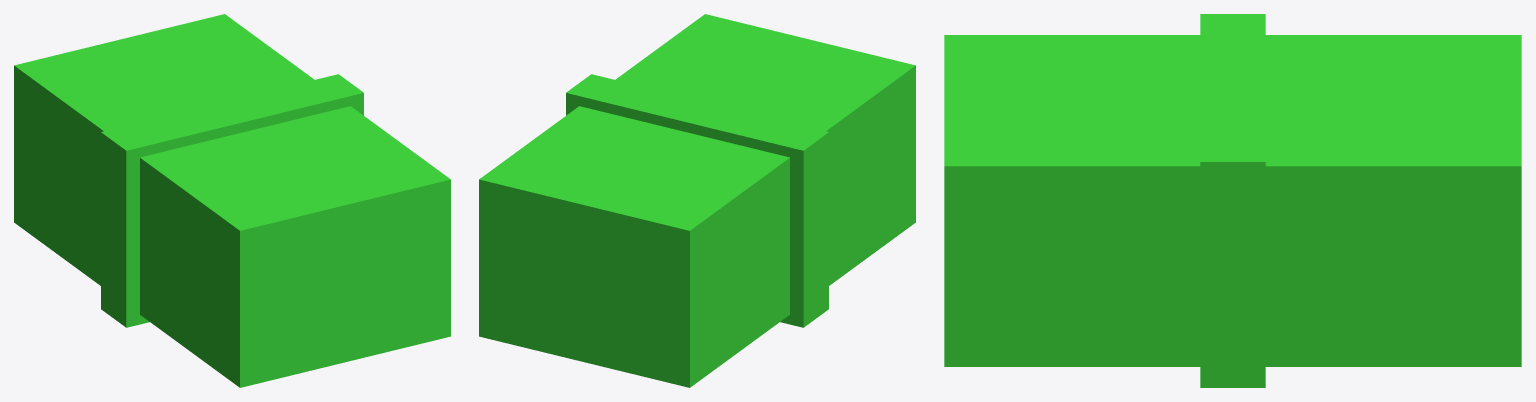
Rendered from BMoney.fbx.
3 renders of one model, left to right at view 1: azimuth 30°, elevation 25°; view 2: azimuth 150°, elevation 25°; view 3: azimuth 270°, elevation 25°, orthographic. The views are drawn at different scales.
Parts seen in each view (by area): view 1: Blood Money; view 2: Blood Money; view 3: Blood Money.
Part boxes in pixels (<box>): Blood Money: <box>14,14,450,387</box>; Blood Money: <box>479,14,915,387</box>; Blood Money: <box>944,14,1521,387</box>.
Bounding box in the file's own units: 121 × 86.43 × 200.
